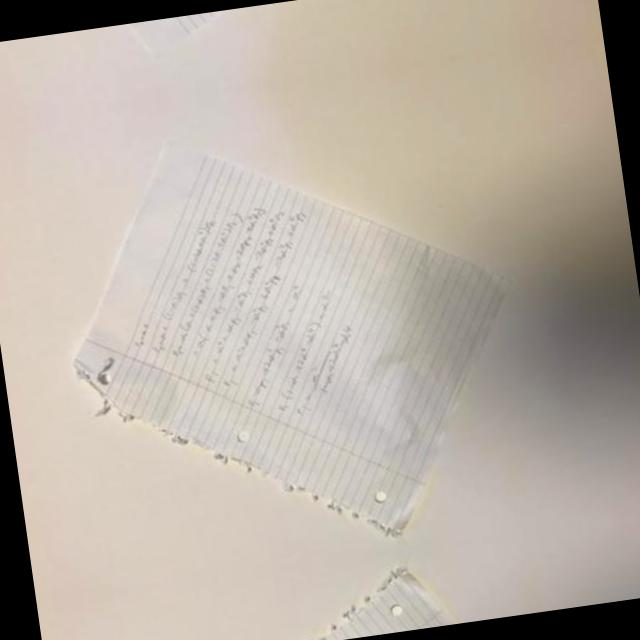paper: (30, 81, 528, 577), (15, 0, 459, 93), (95, 550, 540, 640)
